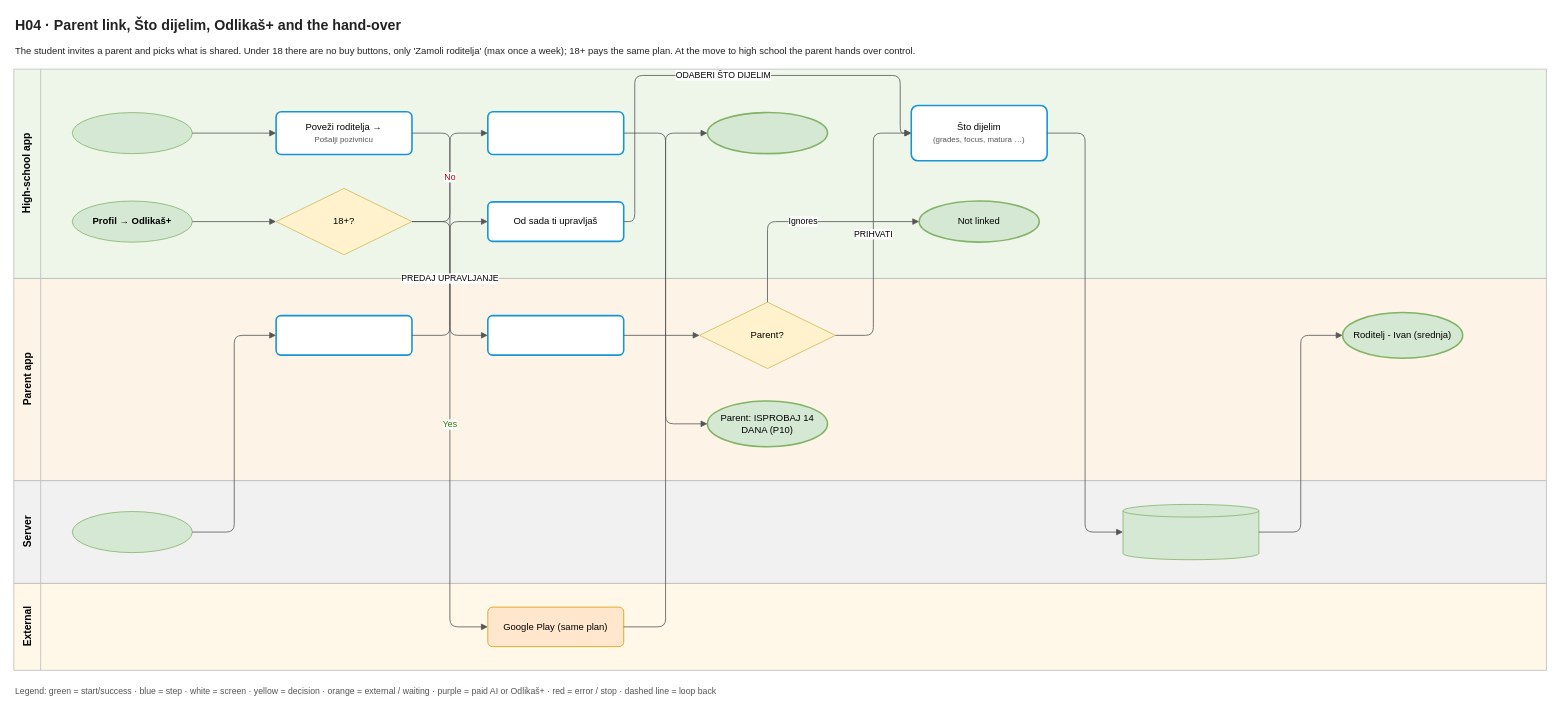
This 1560x712 diagram has some shape labels left out. Each missing label, with the centre of its shape:
"Kid moves to high school" goes at point (131, 532).
"Odlikaš+ active" goes at point (767, 132).
"Poziv od Ivana" goes at point (555, 335).
"Prelazak u srednju" goes at point (343, 335).
"Profil → Roditelj" goes at point (131, 133).
"sharing scopes: the parent sees only these" goes at point (1190, 532).
"ZAMOLI RODITELJA (max once a week)" goes at point (555, 133).
